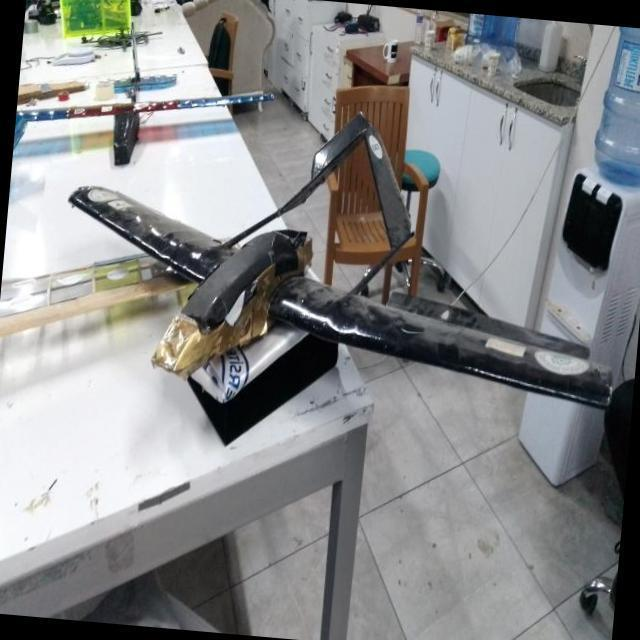iha: (67, 96, 580, 531)
